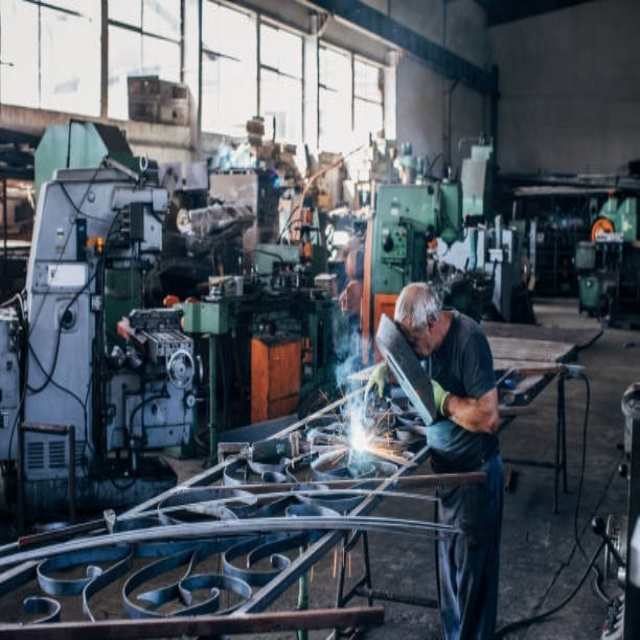Guantes: (365, 362, 389, 402), (431, 379, 451, 417)
